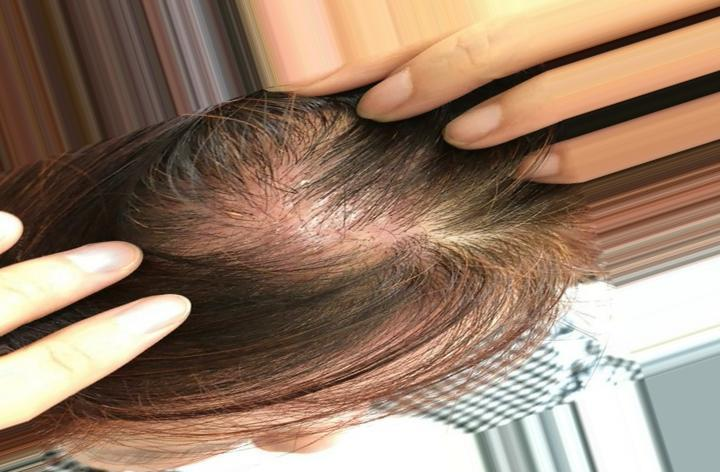Contact Dermatitis: (173, 129, 471, 314)
